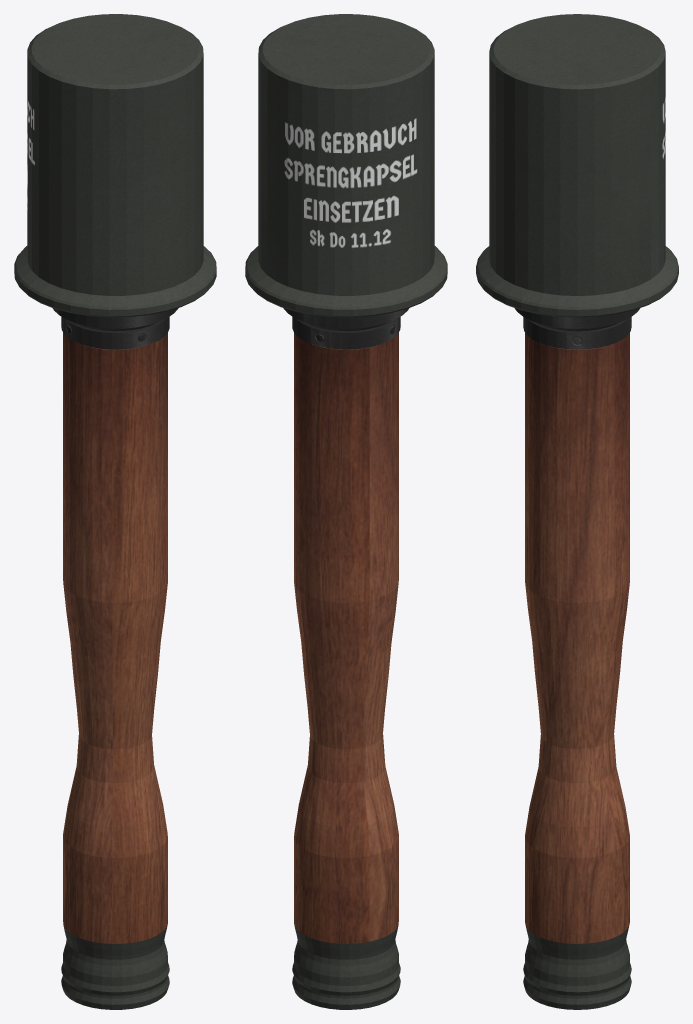
File: Stielhandgranate24.fbx
The picture shows the model from 3 angles, left to right: view 1: azimuth 30°, elevation 25°; view 2: azimuth 150°, elevation 25°; view 3: azimuth 270°, elevation 25°; orthographic projection.
Parts seen in each view (by area): view 1: Cylinder; view 2: Cylinder; view 3: Cylinder.
Part boxes in pixels (x1,y1,x2,y2): Cylinder: [14, 14, 216, 1009]; Cylinder: [245, 14, 447, 1009]; Cylinder: [476, 14, 678, 1009].
Size of the model in its own units: 0.0713 by 0.365 by 0.0713.
